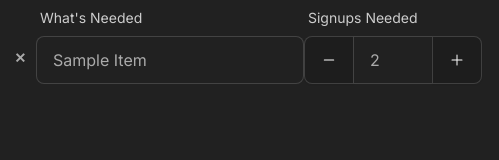
Test: ItemInput › decrements the count when the "-" button is clicked
Click the button named "decrement-count-0-button": (329, 60) [304, 36, 354, 84]
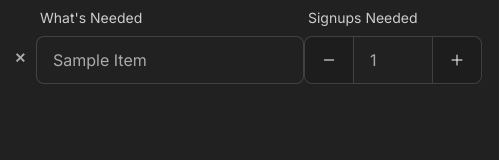
Check: the number field holds "1", box [353, 36, 433, 84]
